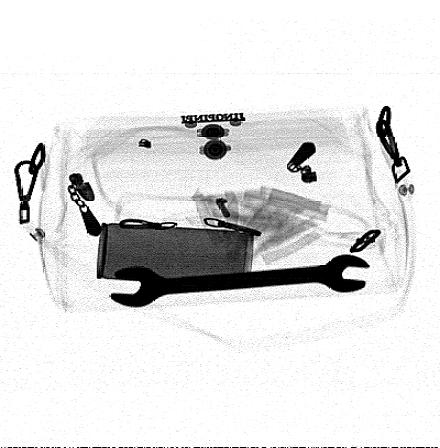Wrench: (108, 253, 370, 309)
